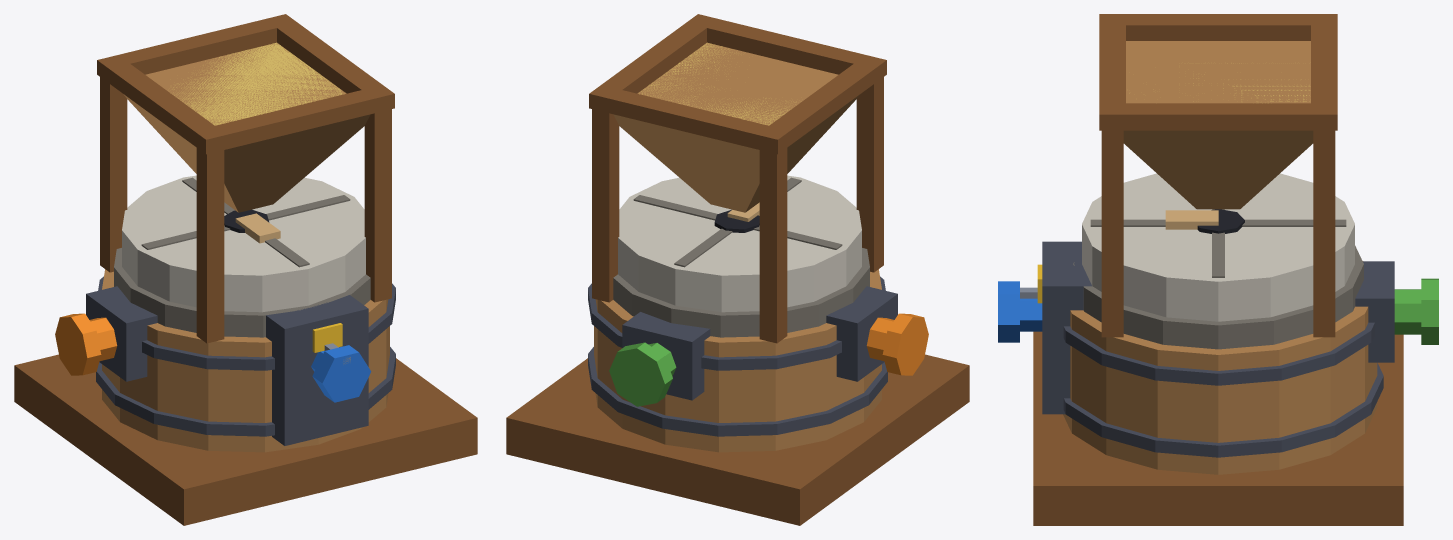
Rendered from millstone.glb.
3 views of the same model, side by side, from view 1: azimuth 30°, elevation 25°; view 2: azimuth 150°, elevation 25°; view 3: azimuth 270°, elevation 25° (orthographic). The views are drawn at different scales.
Parts seen in each view (by area): view 1: millstone, spin-up, spin-y; view 2: millstone, spin-up; view 3: millstone, spin-up, spin-y.
Boxes of the visible parts, bbox=[...] form: millstone: bbox=[14, 14, 477, 525]; spin-up: bbox=[122, 175, 365, 312]; spin-y: bbox=[311, 343, 371, 402]; millstone: bbox=[506, 14, 969, 525]; spin-up: bbox=[618, 175, 861, 312]; millstone: bbox=[1033, 14, 1438, 525]; spin-up: bbox=[1082, 173, 1354, 321]; spin-y: bbox=[998, 281, 1042, 342].
Size of the model in its own units: 0.92 by 0.96 by 1.
3 materials, 3 textured.
